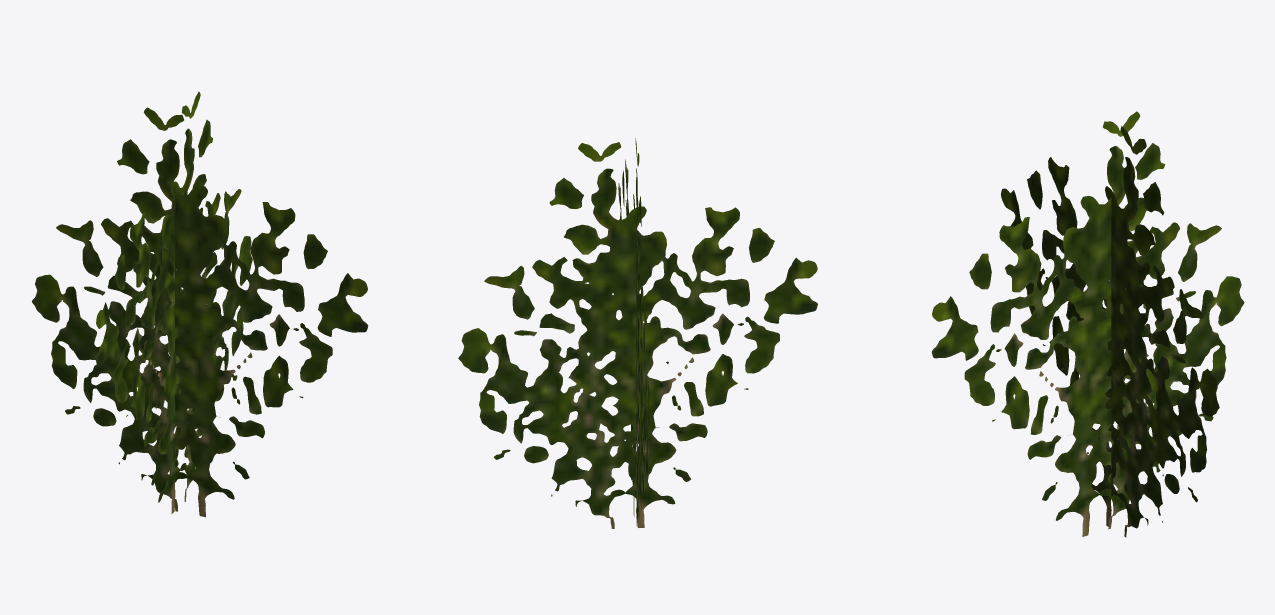
Rendered from W_shrub_L2.fbx.
3 views of the same model, side by side, from view 1: azimuth 30°, elevation 25°; view 2: azimuth 150°, elevation 25°; view 3: azimuth 270°, elevation 25° (orthographic). The views are drawn at different scales.
Parts seen in each view (by area): view 1: W_shrub_L2; view 2: W_shrub_L2; view 3: W_shrub_L2.
Part boxes in pixels (x1,y1,x2,y2): W_shrub_L2: (32, 91, 368, 517); W_shrub_L2: (458, 138, 817, 528); W_shrub_L2: (932, 111, 1244, 537).
Size of the model in its own units: 0.613 by 0.7907 by 0.613.
